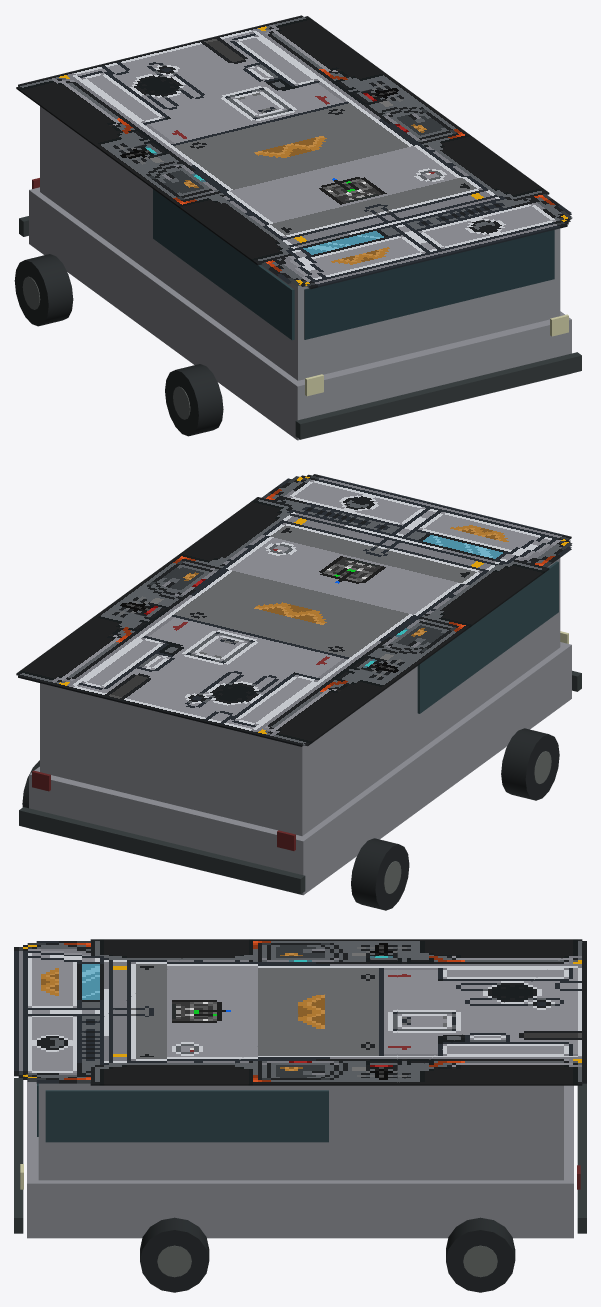
The model's file is CMU3DReduxVehicleAPCPMC.glb.
3 renders of one model, top to bottom at view 1: azimuth 30°, elevation 25°; view 2: azimuth 150°, elevation 25°; view 3: azimuth 270°, elevation 25°, orthographic.
Parts seen in each view (by area): view 1: source hull roof panel (×3), upper hull, closed lower chassis, cab windscreen, cab side window, road tire (×2), front bumper; view 2: source hull roof panel (×3), upper hull, closed lower chassis, cab side window, road tire (×2), rear bumper; view 3: source hull roof panel (×3), upper hull, closed lower chassis, cab side window, road tire (×2), wheel hub (×2), front bumper, rear bumper.
Part boxes in pixels (left/top/right/bottom): source hull roof panel (×3): left=16, top=15, right=572, bottom=289; upper hull: left=40, top=106, right=560, bottom=380; closed lower chassis: left=29, top=187, right=571, bottom=440; cab windscreen: left=304, top=230, right=554, bottom=339; cab side window: left=153, top=189, right=294, bottom=340; road tire (×2): left=14, top=254, right=223, bottom=436; front bumper: left=295, top=352, right=581, bottom=439; source hull roof panel (×3): left=16, top=474, right=572, bottom=746; upper hull: left=40, top=558, right=560, bottom=835; closed lower chassis: left=29, top=642, right=571, bottom=895; cab side window: left=417, top=561, right=558, bottom=713; road tire (×2): left=351, top=728, right=559, bottom=910; rear bumper: left=19, top=807, right=305, bottom=894; source hull roof panel (×3): left=14, top=939, right=586, bottom=1085; upper hull: left=38, top=1083, right=563, bottom=1180; closed lower chassis: left=27, top=1080, right=573, bottom=1238; cab side window: left=45, top=1090, right=328, bottom=1142; road tire (×2): left=140, top=1217, right=515, bottom=1292; wheel hub (×2): left=157, top=1245, right=497, bottom=1277; front bumper: left=14, top=1078, right=23, bottom=1233; rear bumper: left=577, top=1083, right=586, bottom=1233.
Size of the model in its own units: 2.88 by 1.49 by 3.97.
Materials: 11 (3 with a texture image).
